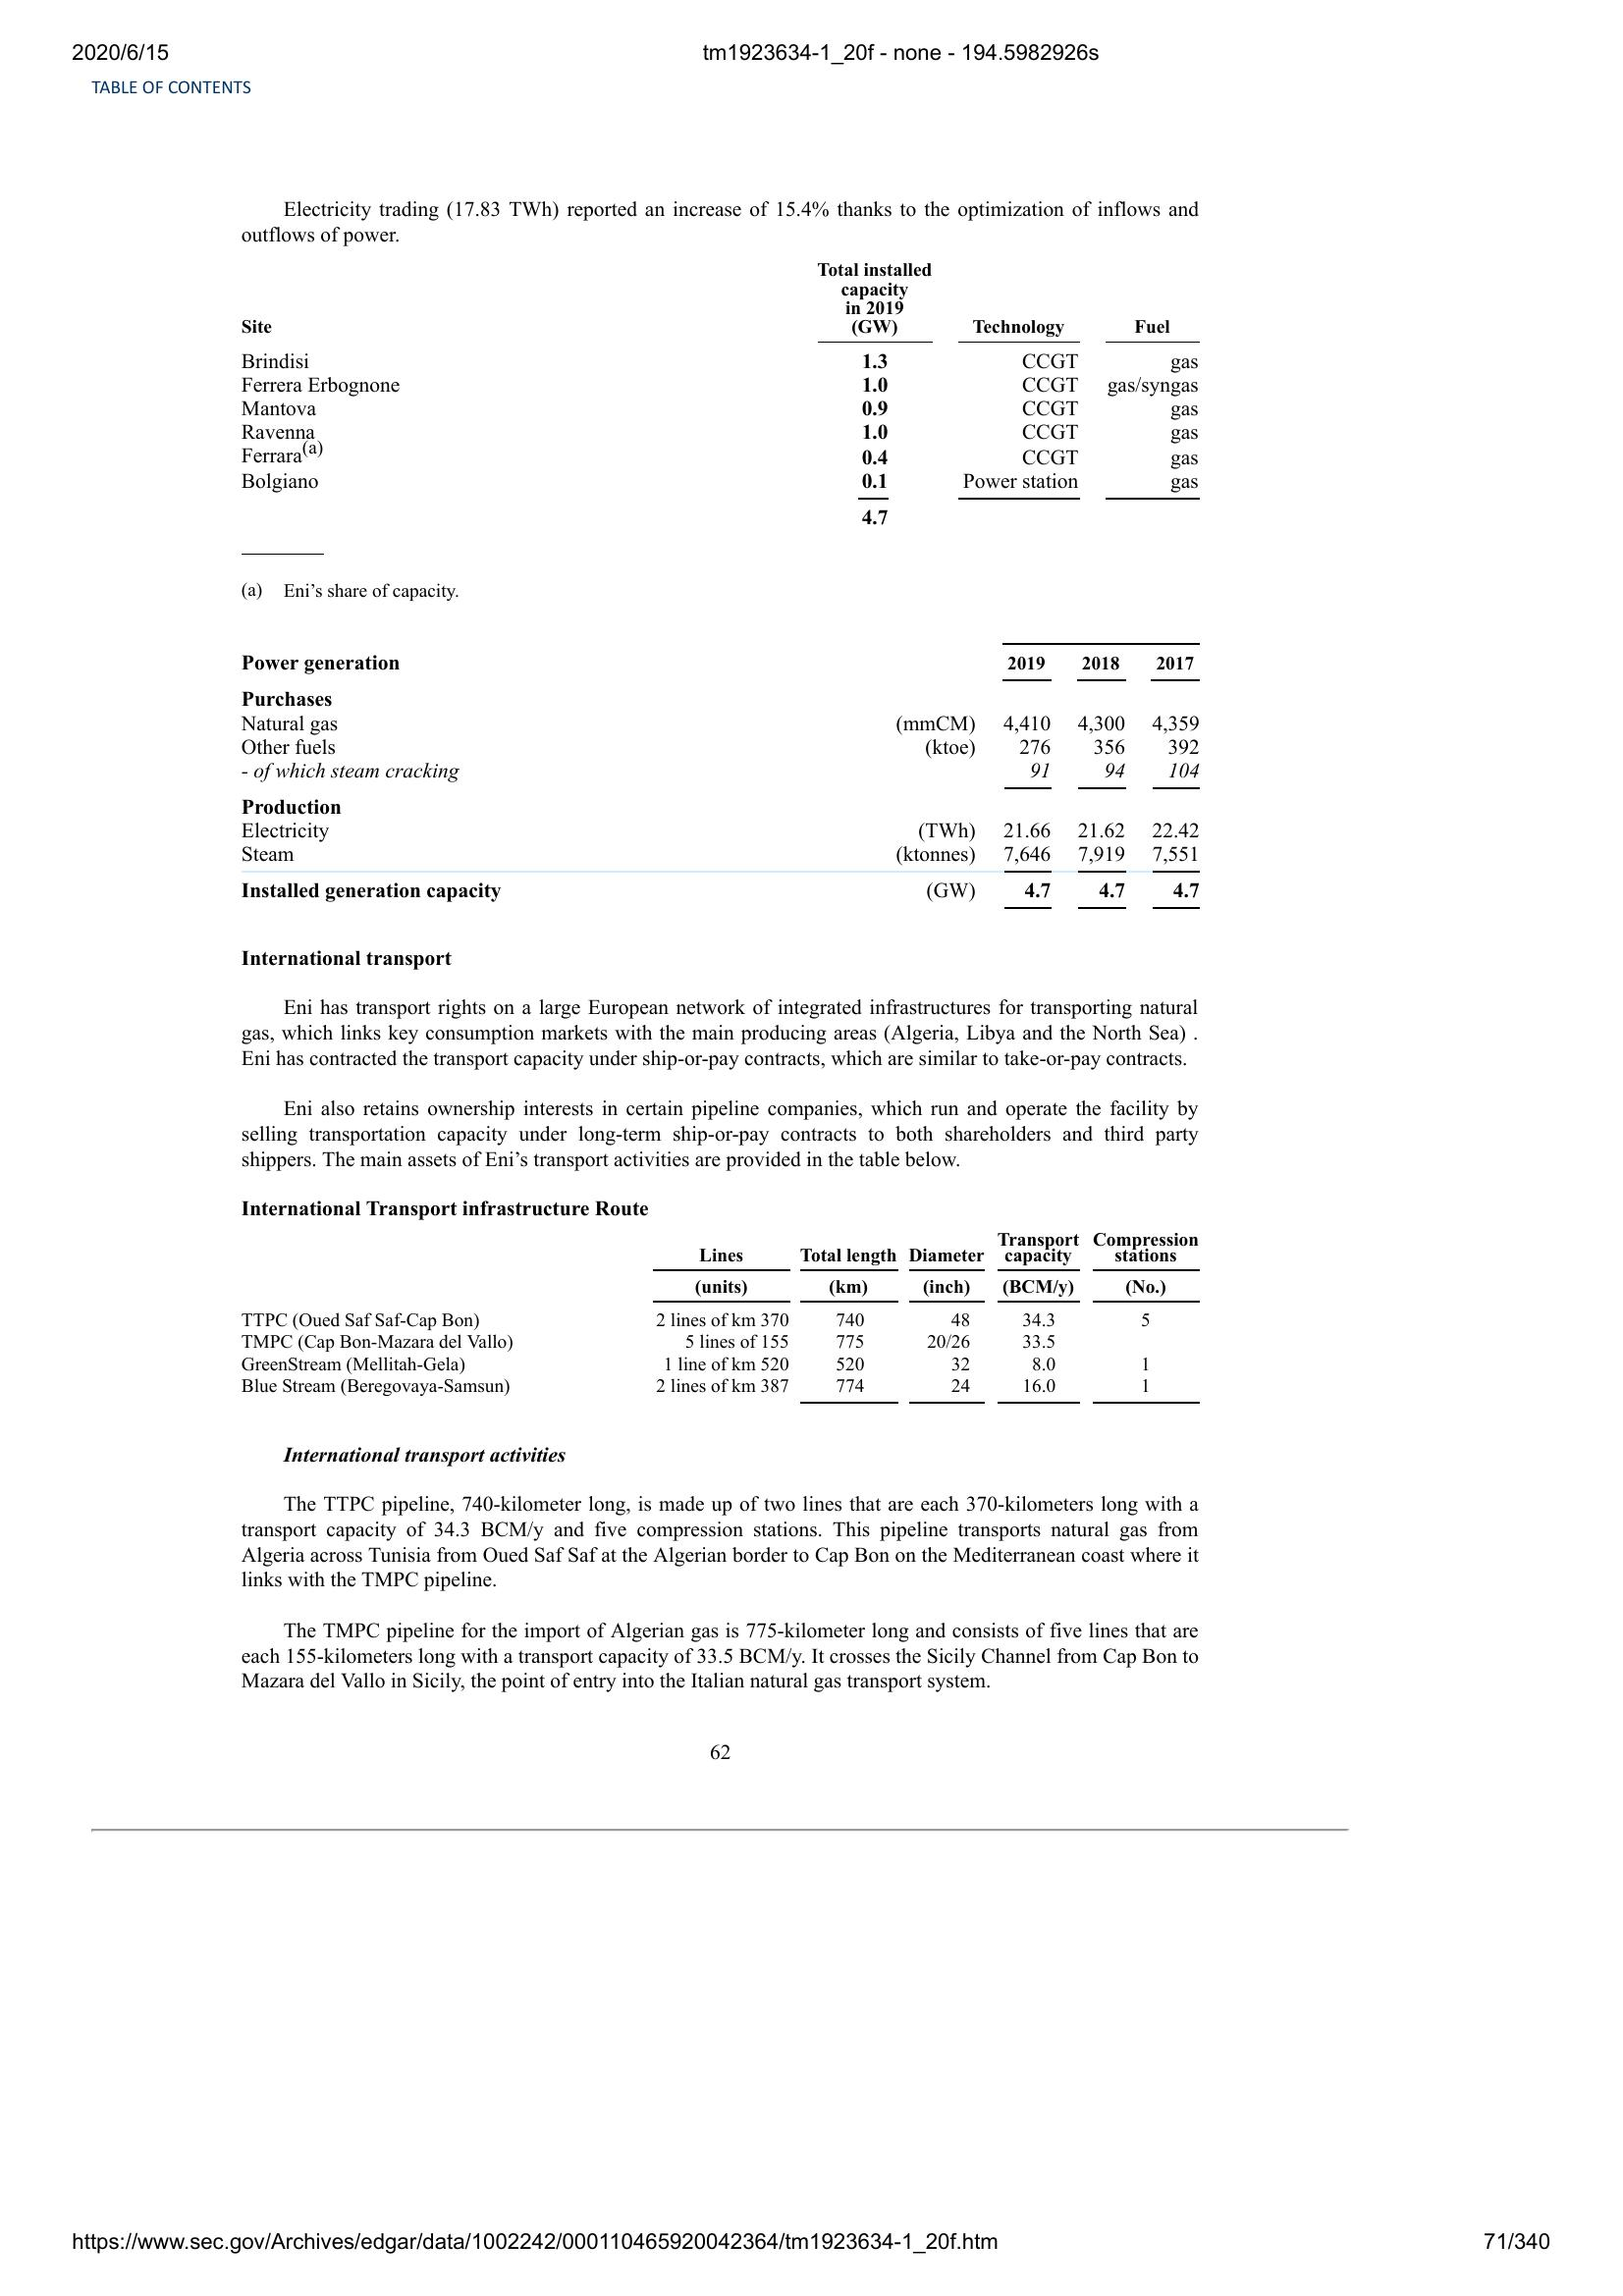table: (232, 635, 1205, 916), (228, 256, 1212, 521), (232, 1229, 1208, 1411)
